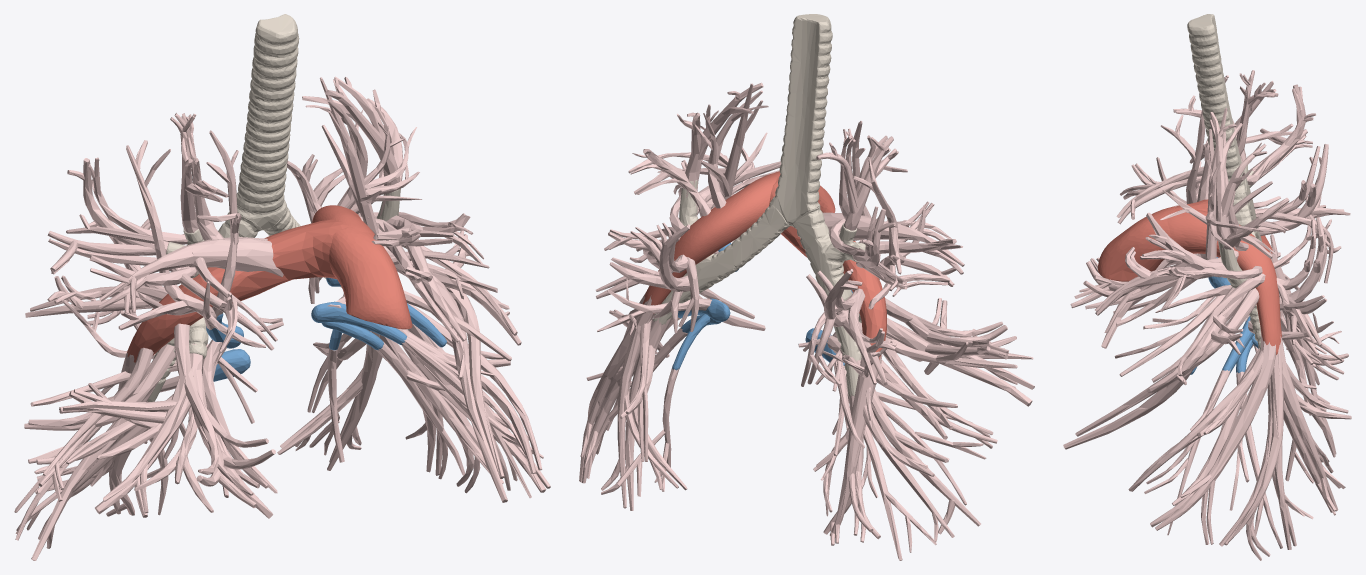
The model's file is trachea-lung-real.glb.
3 views of the same model, side by side, from view 1: azimuth 30°, elevation 25°; view 2: azimuth 150°, elevation 25°; view 3: azimuth 270°, elevation 25° (orthographic). The views are drawn at different scales.
Visible parts, largest first — view 1: right-upper-lobe, left-upper-lobe, left-lower-lobe, right-lower-lobe, right-middle-lobe, pulmonary-artery, trachea, pulmonary-vein, right-main-bronchus, left-main-bronchus; view 2: right-lower-lobe, left-lower-lobe, left-upper-lobe, right-upper-lobe, trachea, pulmonary-artery, right-middle-lobe, left-main-bronchus, right-main-bronchus, pulmonary-vein; view 3: left-lower-lobe, left-upper-lobe, right-upper-lobe, pulmonary-artery, right-lower-lobe, trachea, right-middle-lobe, left-main-bronchus, pulmonary-vein.
Part boxes in pixels (x1,y1,x2,y2): right-upper-lobe: (47,113,283,352); left-upper-lobe: (302,76,521,502); left-lower-lobe: (277,154,550,498); right-lower-lobe: (14,204,257,560); right-middle-lobe: (59,323,277,518); pulmonary-artery: (127,205,412,362); trachea: (236,14,299,230); pulmonary-vein: (206,277,446,381); right-main-bronchus: (147,212,261,401); left-main-bronchus: (264,189,400,287); right-lower-lobe: (798,268,997,560); left-lower-lobe: (579,223,699,510); left-upper-lobe: (597,82,781,335); right-upper-lobe: (816,121,964,309); trachea: (771,14,832,226); pulmonary-artery: (642,171,886,359); right-middle-lobe: (858,298,1034,406); left-main-bronchus: (653,180,789,324); right-main-bronchus: (792,205,871,397); pulmonary-vein: (672,242,852,370); left-lower-lobe: (1128,217,1351,560); left-upper-lobe: (1063,107,1342,449); right-upper-lobe: (1116,70,1315,224); pulmonary-artery: (1098,199,1282,354); right-lower-lobe: (1223,144,1350,415); trachea: (1187,14,1246,195); right-middle-lobe: (1070,253,1205,348); left-main-bronchus: (1218,193,1260,349); pulmonary-vein: (1190,257,1258,374).
Size of the model in its own units: 1.69 by 1.9 by 1.1.
